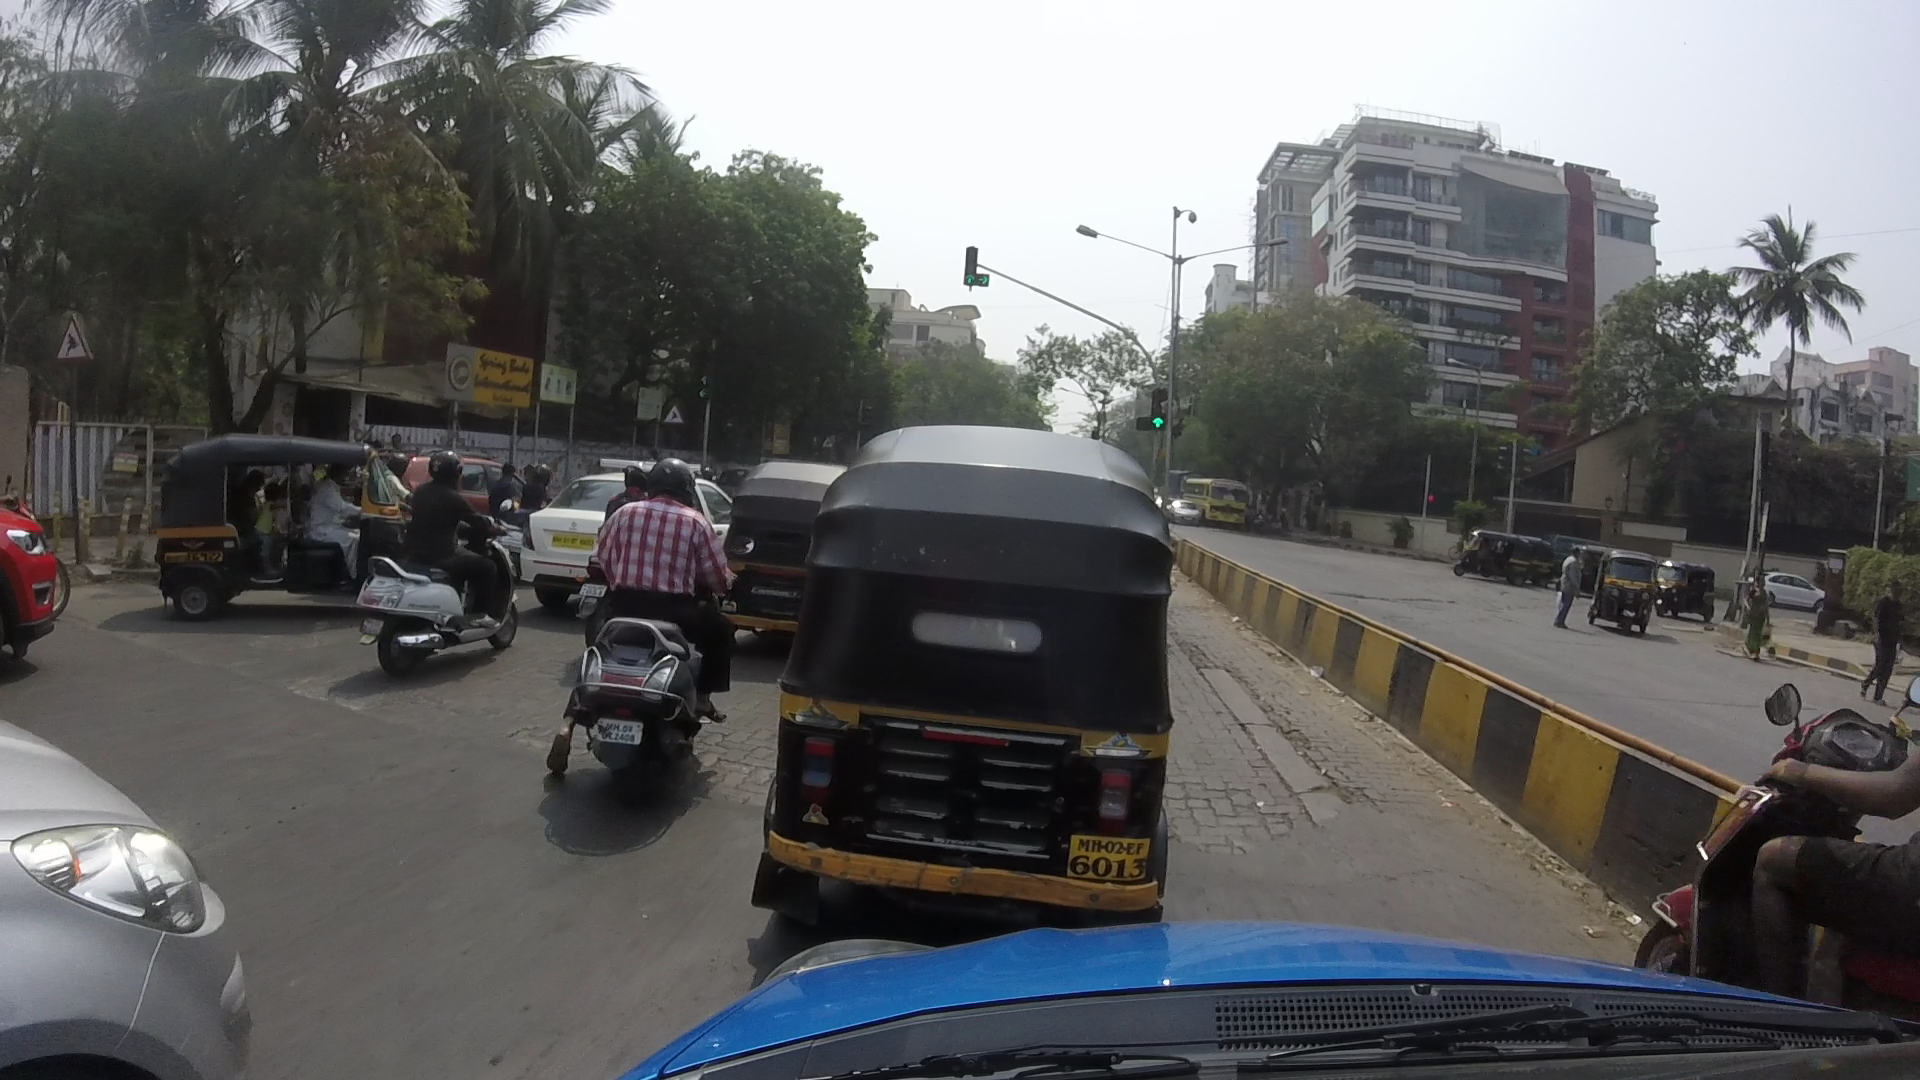bike/scooter: (1640, 626, 1920, 990), (546, 454, 723, 789), (369, 454, 505, 659)
rickshaw: (771, 425, 1189, 927), (146, 427, 405, 611), (719, 451, 833, 642)
